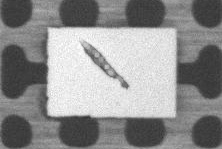DIE_INK: (112, 24, 201, 64)
